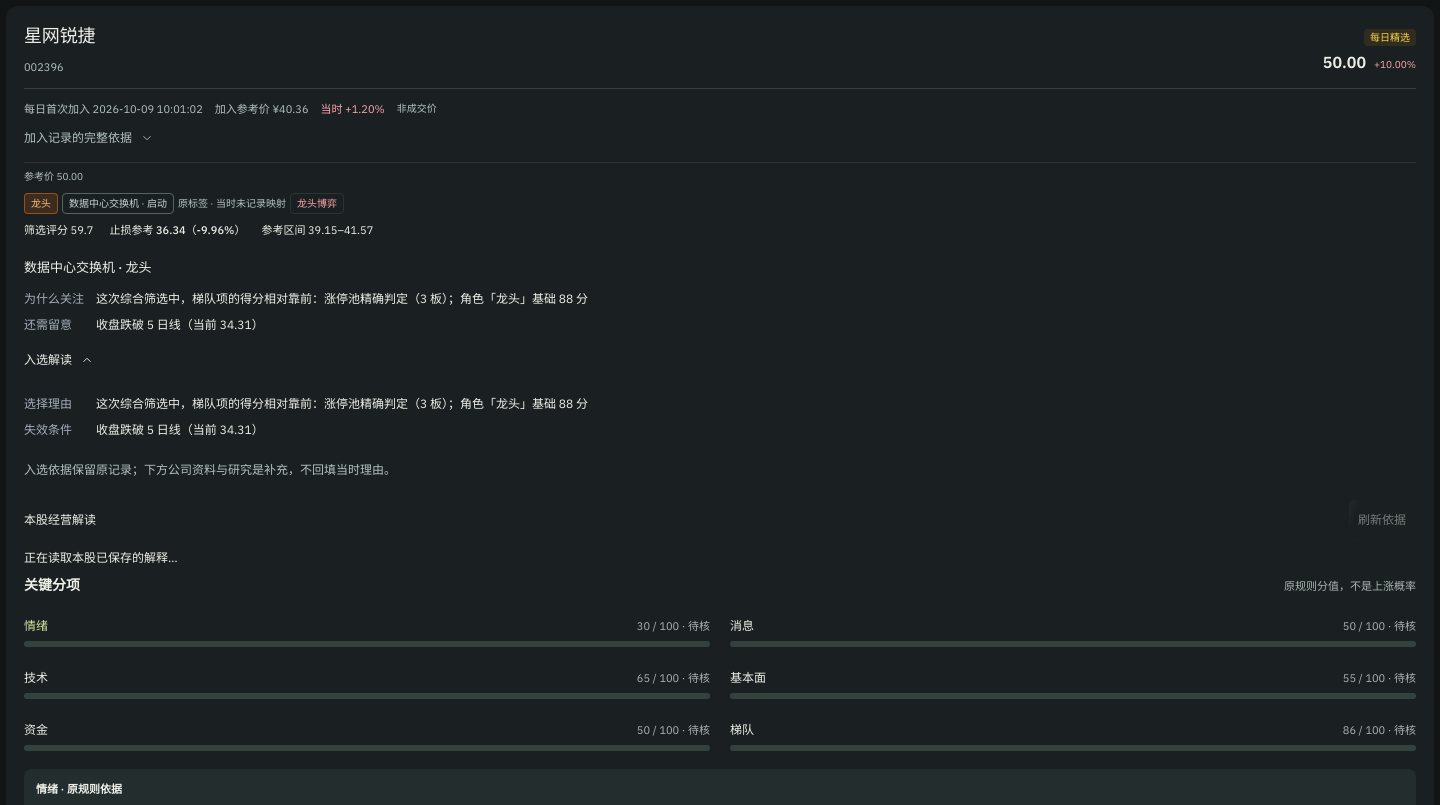
Scenario: PickCard · 盘前名单（fromDailyPick） › keeps first join evidence beside a later sealed quote and exposes its independent source clock
The image size is (1440, 805).
Check: the element named "每日首次加入记录" shows "10:01:02", box x1=157 y1=102 x2=203 y2=116
Check: the element named "每日首次加入记录" shows "¥40.36", box x1=272 y1=102 x2=308 y2=116
What coordinates should you click on to do the following:
click the button "加入记录的完整依据"
I would click on:
 (89, 138)
Its box is x1=24 y1=122 x2=154 y2=154.
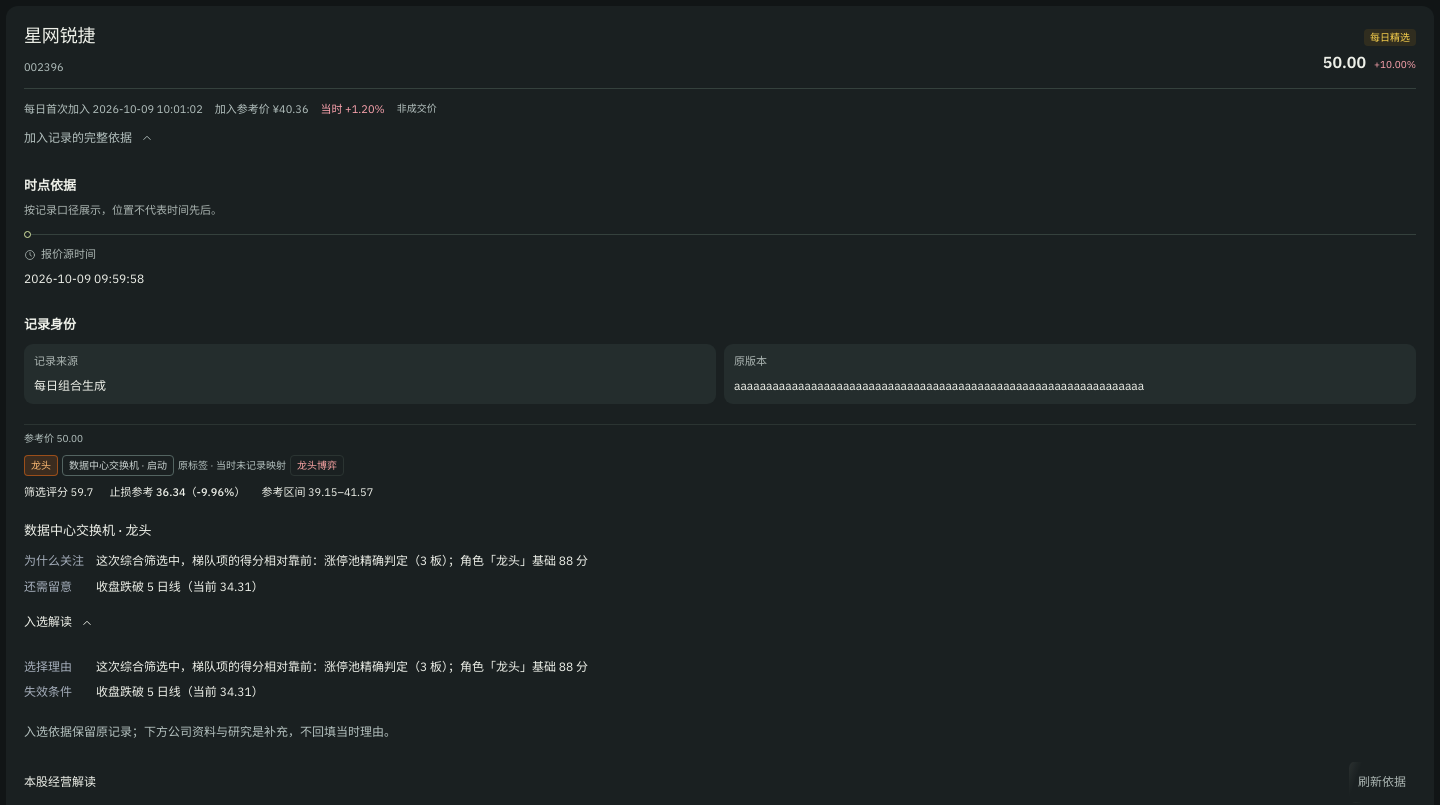
Check: the element named "每日首次加入记录" shows "非成交价", box x1=397 y1=102 x2=437 y2=115
Check: the element named "每日首次加入记录" shows "09:59:58", box x1=24 y1=271 x2=144 y2=286
